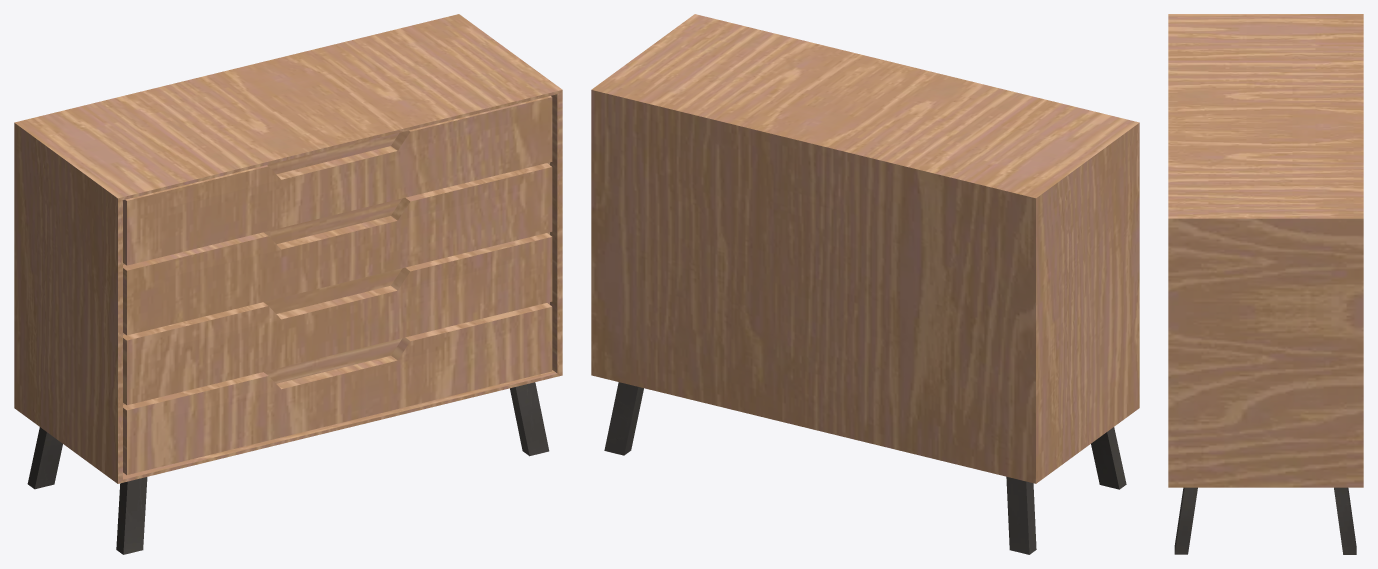
The model's file is dresser.glb.
The picture shows the model from 3 angles, left to right: view 1: azimuth 30°, elevation 25°; view 2: azimuth 150°, elevation 25°; view 3: azimuth 270°, elevation 25°; orthographic projection. The views are drawn at different scales.
Visible parts, largest first — view 1: Dresser_Wood_0, Leg_Metal_0; view 2: Dresser_Wood_0, Leg_Metal_0; view 3: Dresser_Wood_0, Leg_Metal_0.
Part boxes in pixels (box(x1,y1,x2,y2)): Dresser_Wood_0: box(14, 14, 562, 483); Leg_Metal_0: box(27, 382, 549, 554); Dresser_Wood_0: box(591, 14, 1139, 483); Leg_Metal_0: box(604, 382, 1126, 554); Dresser_Wood_0: box(1168, 14, 1363, 487); Leg_Metal_0: box(1174, 487, 1356, 554).
Bounding box in the file's own units: 1.09 × 0.85 × 0.4416.
2 materials, 2 textured.
